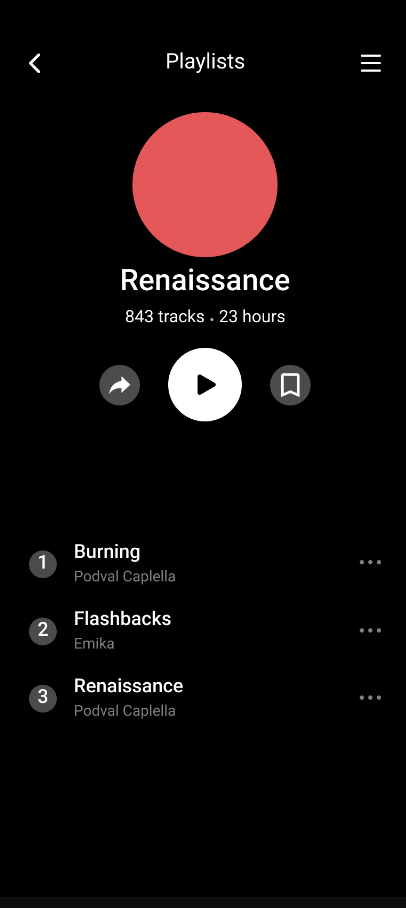AppBar: (1, 1, 406, 81)
IconButton: (165, 346, 244, 424), (98, 358, 141, 409), (267, 362, 312, 408), (356, 46, 385, 79), (25, 47, 45, 78)
